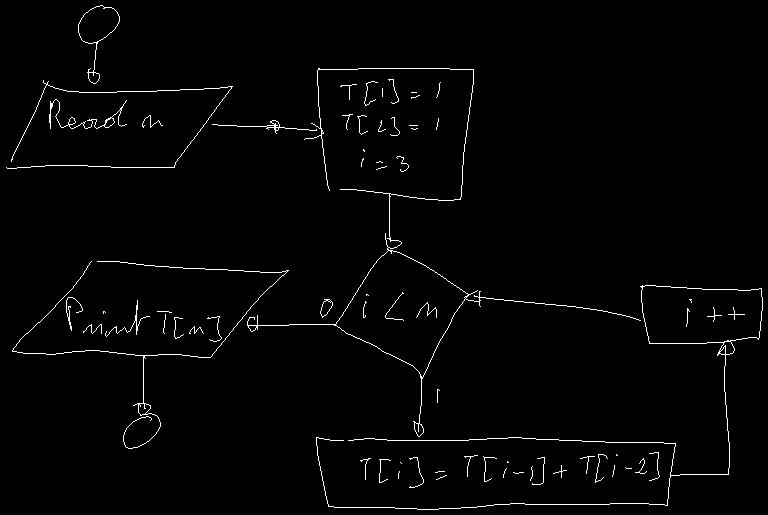arrow: (670, 340, 734, 475), (464, 290, 640, 320), (212, 120, 323, 139), (247, 315, 335, 331), (133, 356, 150, 415), (385, 194, 401, 248), (413, 375, 423, 436), (87, 41, 99, 83)
connection: (78, 5, 119, 43), (123, 413, 160, 448)
data: (12, 261, 288, 357), (6, 80, 232, 168)
decision: (335, 248, 468, 378)
process: (316, 437, 675, 509), (317, 68, 473, 200), (640, 285, 762, 343)
text: (360, 452, 659, 487), (340, 79, 440, 171), (66, 297, 221, 341), (49, 99, 162, 128), (363, 292, 436, 320), (686, 299, 744, 326), (320, 299, 332, 317), (436, 389, 439, 402)
